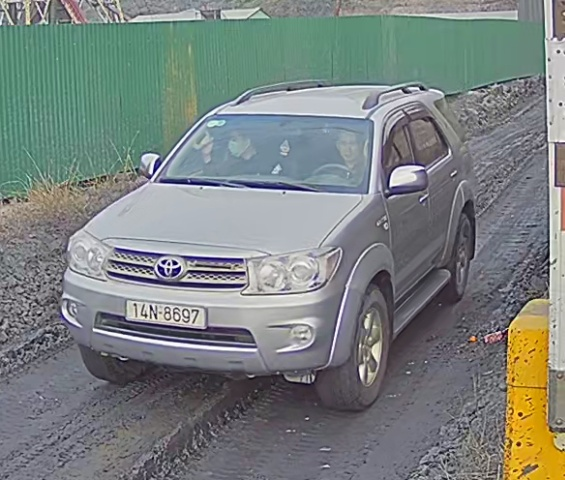vehicle plate: (123, 296, 211, 332)
